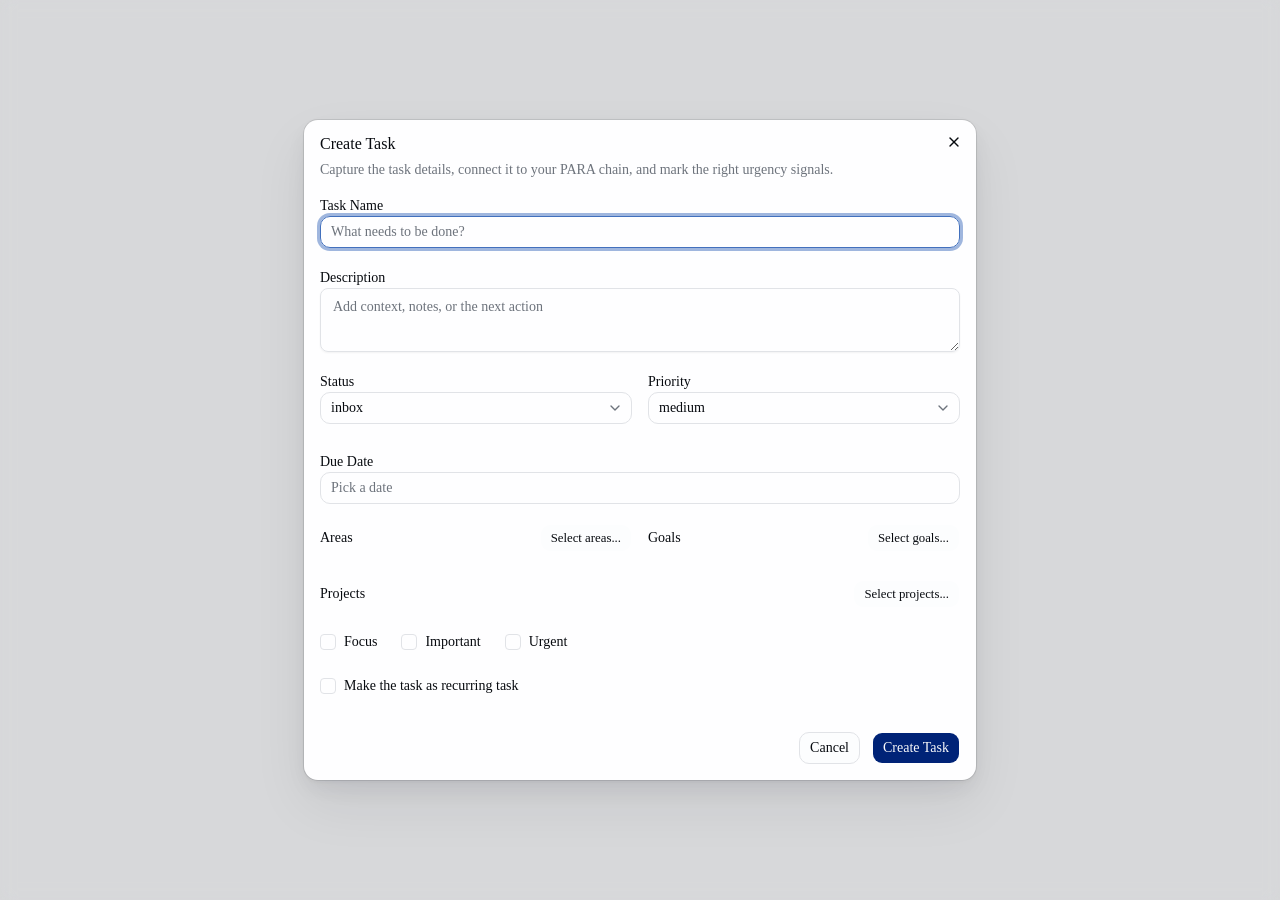
Test: TaskDialog recurring-task UI › reveals the recurrence panel when the checkbox is toggled on
The width and height of the screenshot is (1280, 900).
What coordinates should you click on to do the following:
click the checkbox next to "Make the task as recurring task"
I would click on:
 (328, 686)
Its box is [320, 678, 336, 694].
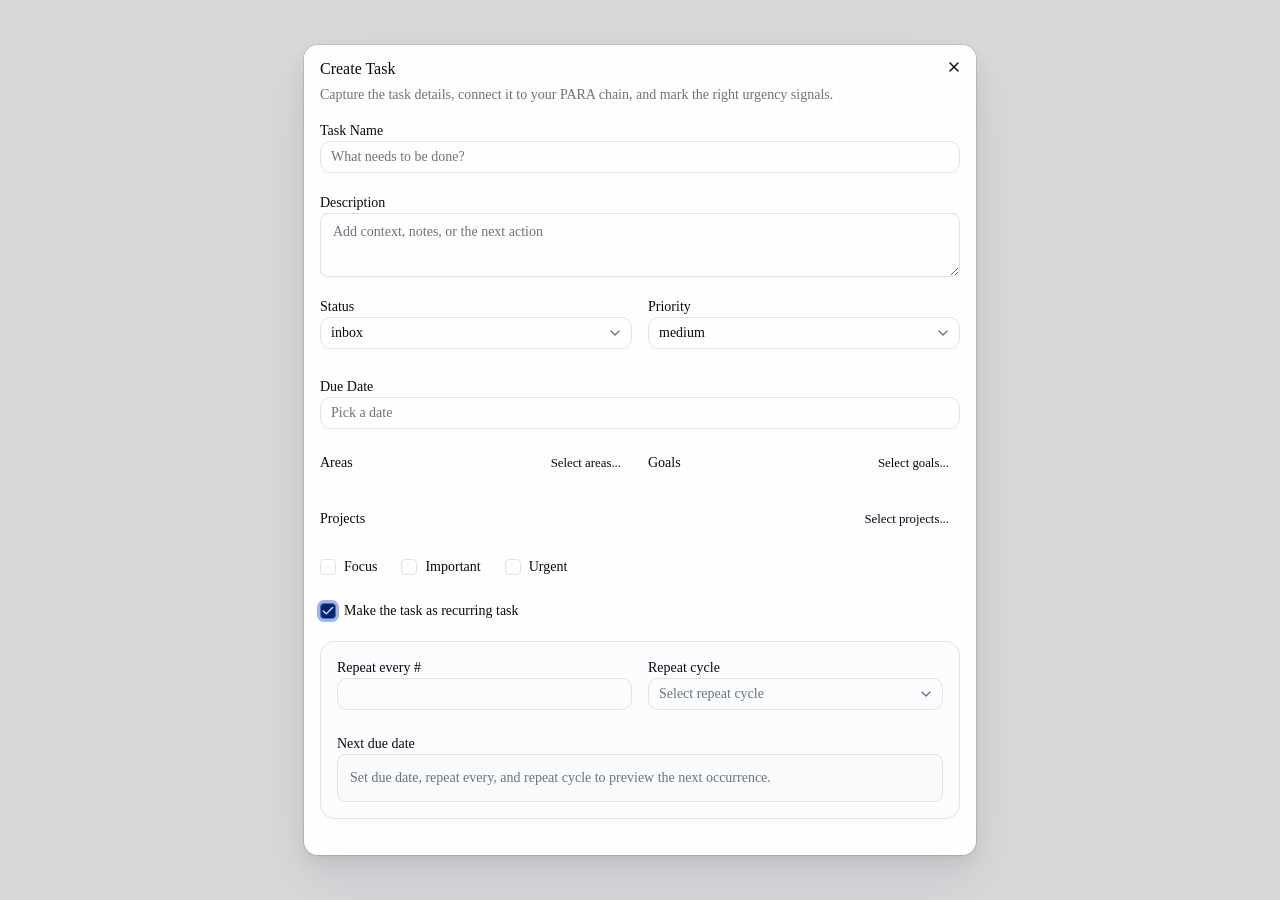
expect the element with test id "task-dialog-recurrence-panel" is shown: met, box [320, 641, 960, 819]
